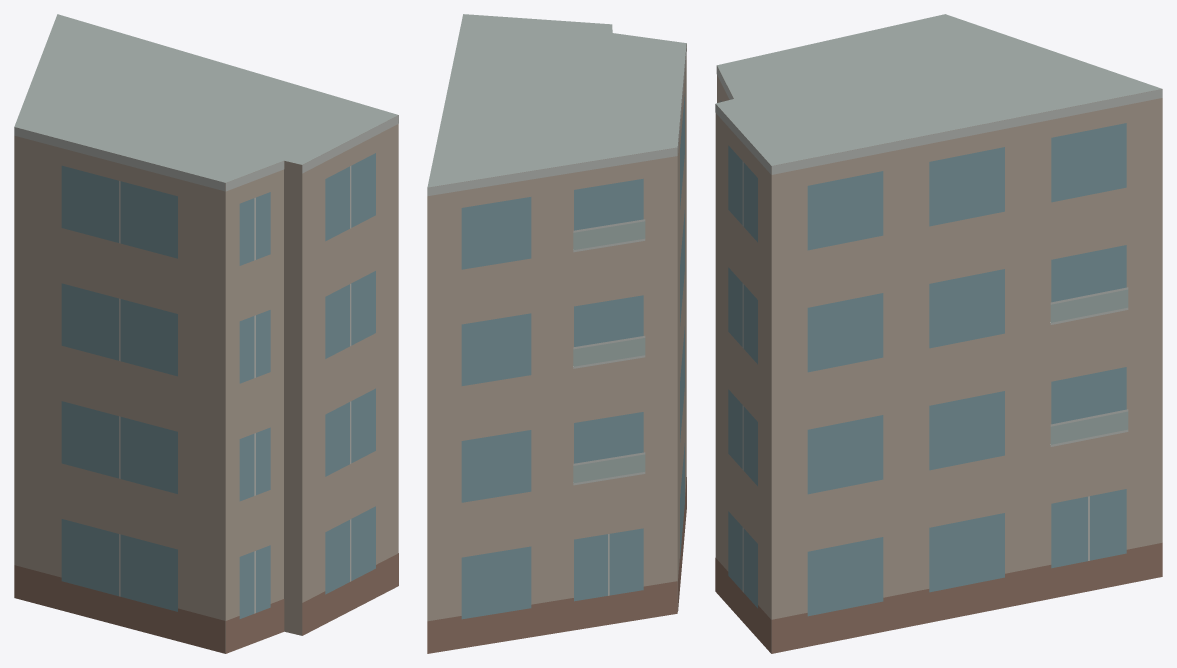
The model's file is survey-upis-33025058.glb.
The picture shows the model from 3 angles, left to right: view 1: azimuth 30°, elevation 25°; view 2: azimuth 150°, elevation 25°; view 3: azimuth 270°, elevation 25°; orthographic projection. The views are drawn at different scales.
Visible parts, largest first — view 1: survey-upis-33025058.tmp; view 2: survey-upis-33025058.tmp; view 3: survey-upis-33025058.tmp.
Part boxes in pixels (box(x1,y1,x2,y2)): survey-upis-33025058.tmp: box(14, 14, 398, 653); survey-upis-33025058.tmp: box(427, 14, 686, 653); survey-upis-33025058.tmp: box(715, 14, 1162, 653).
Bounding box in the file's own units: 8.83 × 13.2 × 10.97.
